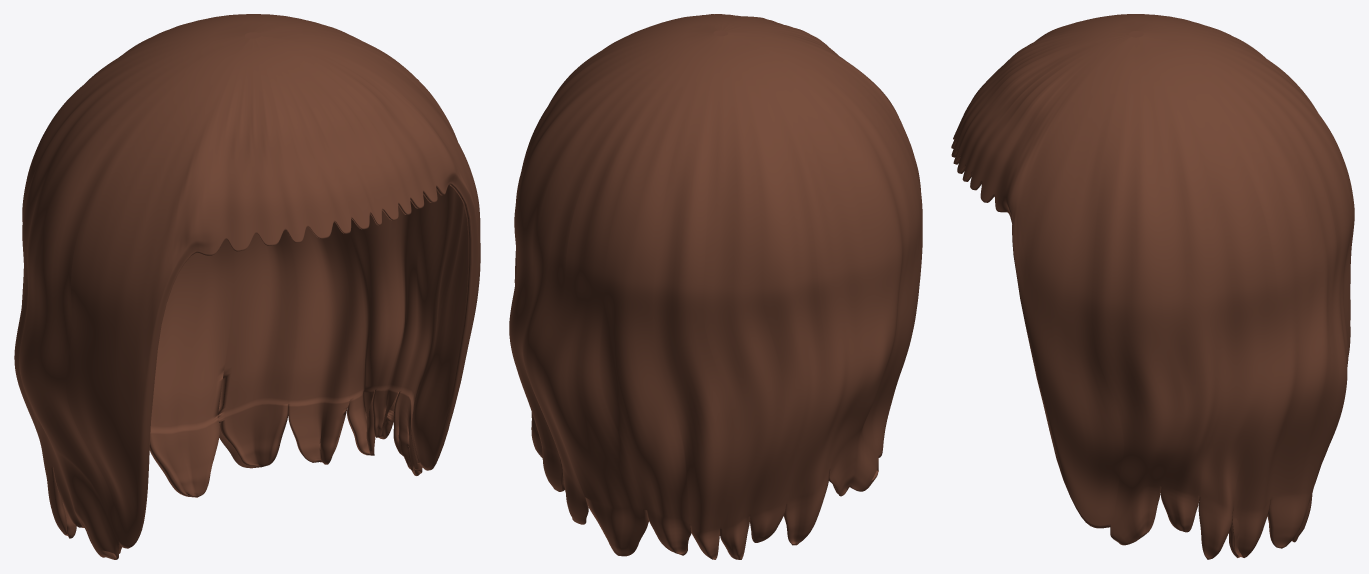
The model's file is long.glb.
3 views of the same model, side by side, from view 1: azimuth 30°, elevation 25°; view 2: azimuth 150°, elevation 25°; view 3: azimuth 270°, elevation 25° (orthographic). The views are drawn at different scales.
Parts seen in each view (by area): view 1: Hair / rounded long fringe; view 2: Hair / rounded long fringe; view 3: Hair / rounded long fringe.
Part boxes in pixels (bbox=[...]): Hair / rounded long fringe: bbox=[14, 14, 480, 559]; Hair / rounded long fringe: bbox=[509, 14, 922, 559]; Hair / rounded long fringe: bbox=[951, 14, 1354, 559].
Bounding box in the file's own units: 0.8536 × 1.06 × 0.7801.
